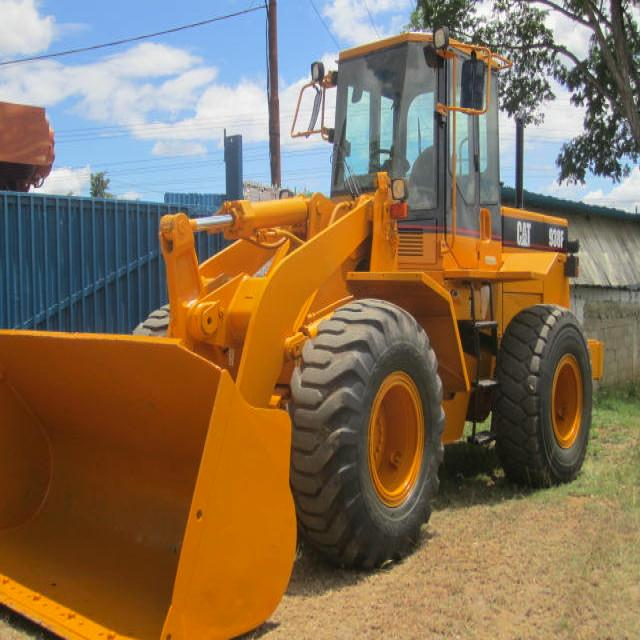buldozerpayloadergrader: (4, 19, 606, 640)
